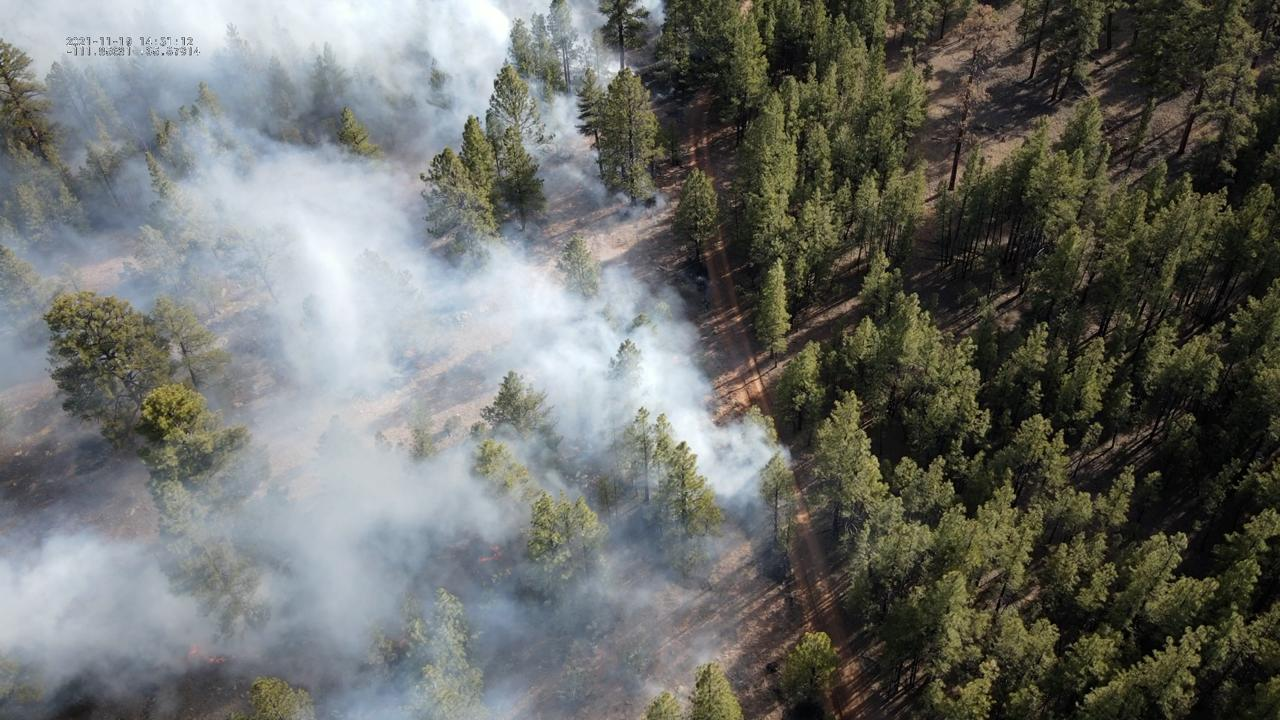fire: (187, 645, 228, 666), (476, 542, 504, 565)
smoke: (0, 0, 794, 720)
